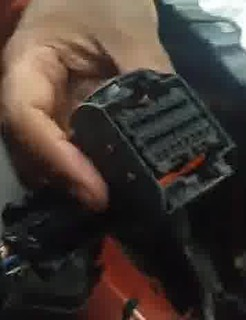connector: (69, 68, 237, 215)
